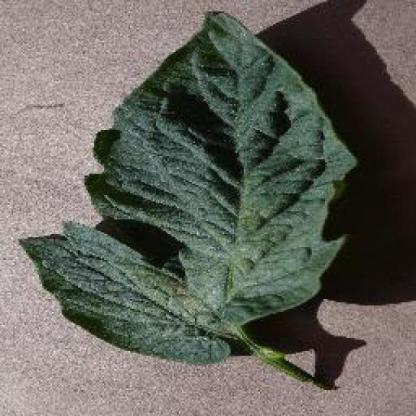Tomato_Spider_Mites: (18, 11, 355, 363)
